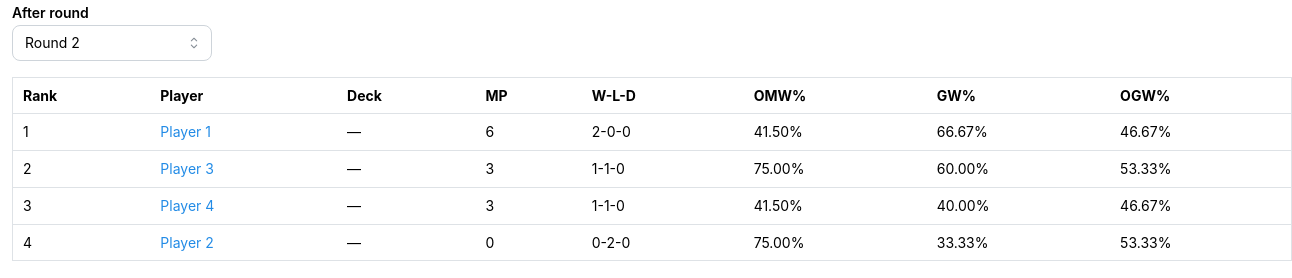
StandingsPanel › After round picker › shows an earlier round's standings when picked
Click the dropdown labelled "After round": (112, 43) x1=12 y1=25 x2=212 y2=61
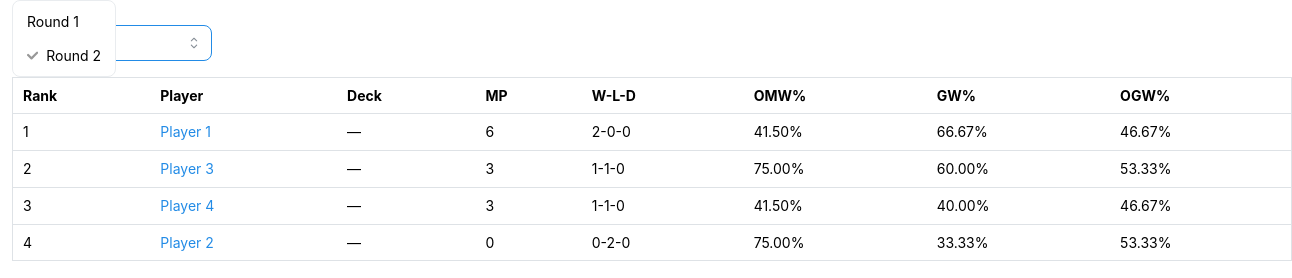
Click the option "Round 1": (53, 22) x1=27 y1=13 x2=79 y2=30
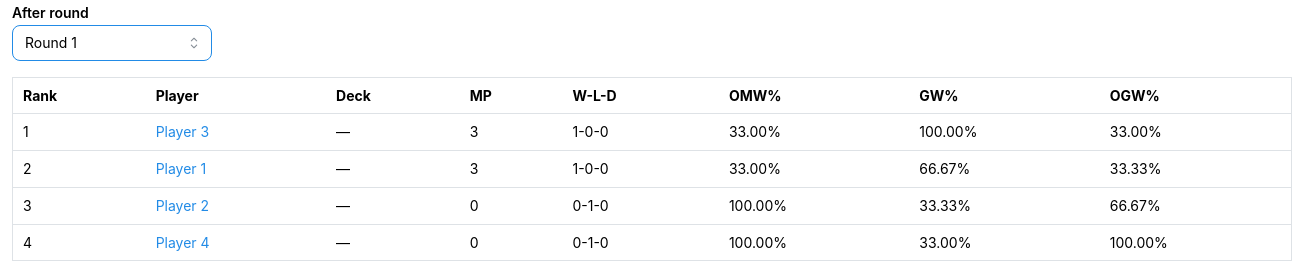
Now the dropdown labelled "After round" holds "Round 1", box x1=12 y1=25 x2=212 y2=61
